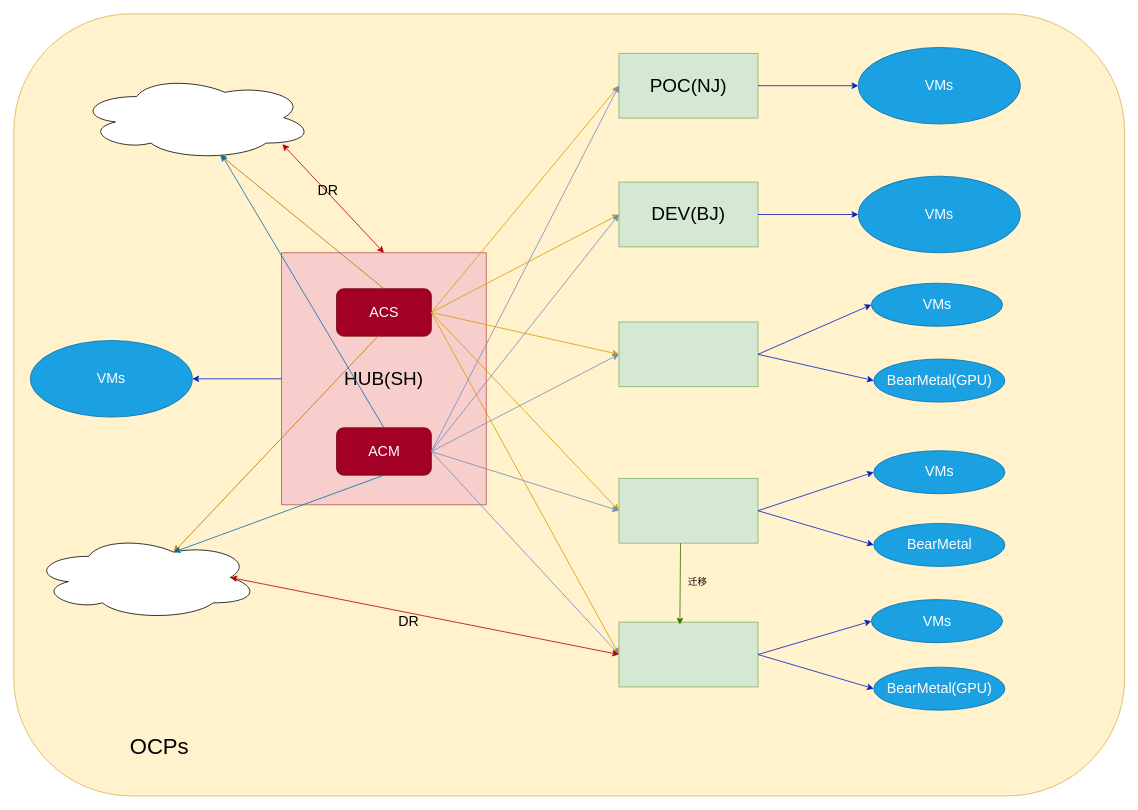
This 1138x810 diagram has some shape labels left out. The box of each missing label's shape, as (x1, y1, x2, y2) in pixels:
AKS in Azure （TBD）: (31, 534, 259, 620)
DTA-SH(SH): (618, 321, 758, 387)
OCP in Azure （TBD）: (77, 75, 313, 160)
PROD(SH): (618, 478, 758, 543)
PROD01(SH): (618, 621, 758, 687)
